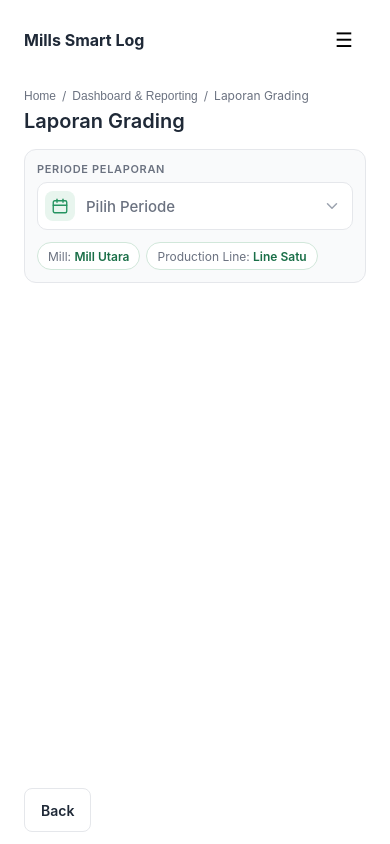
Test: pangsa, rata-rata, dan penyebutnya › menampilkan pangsa dan rata-rata sebagai dua angka berbeda pada baris yang sama
The image size is (390, 844).
Select "Grading — Periode September 2026" in the dropdown with test id "period-select" at (195, 206), box top-left (37, 182), bottom-right (353, 230)
(page scrolled)
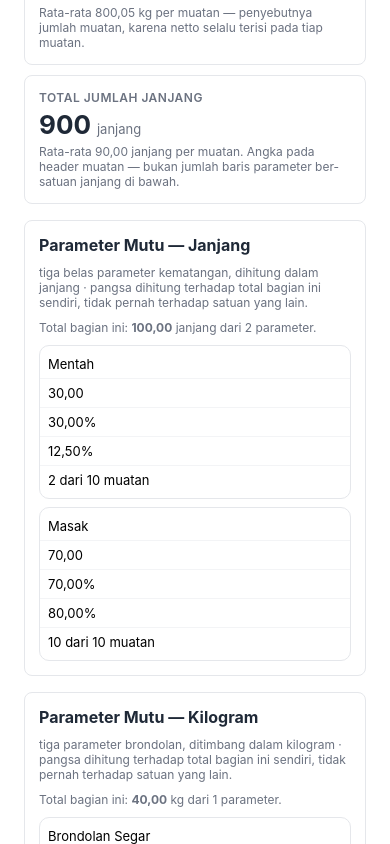
Check: the row with test id "parameter-bunch-row" shows "30,00%", box top-left (48, 414), bottom-right (96, 430)
Check: the row with test id "parameter-bunch-row" shows "12,50%", box top-left (48, 443), bottom-right (94, 459)
